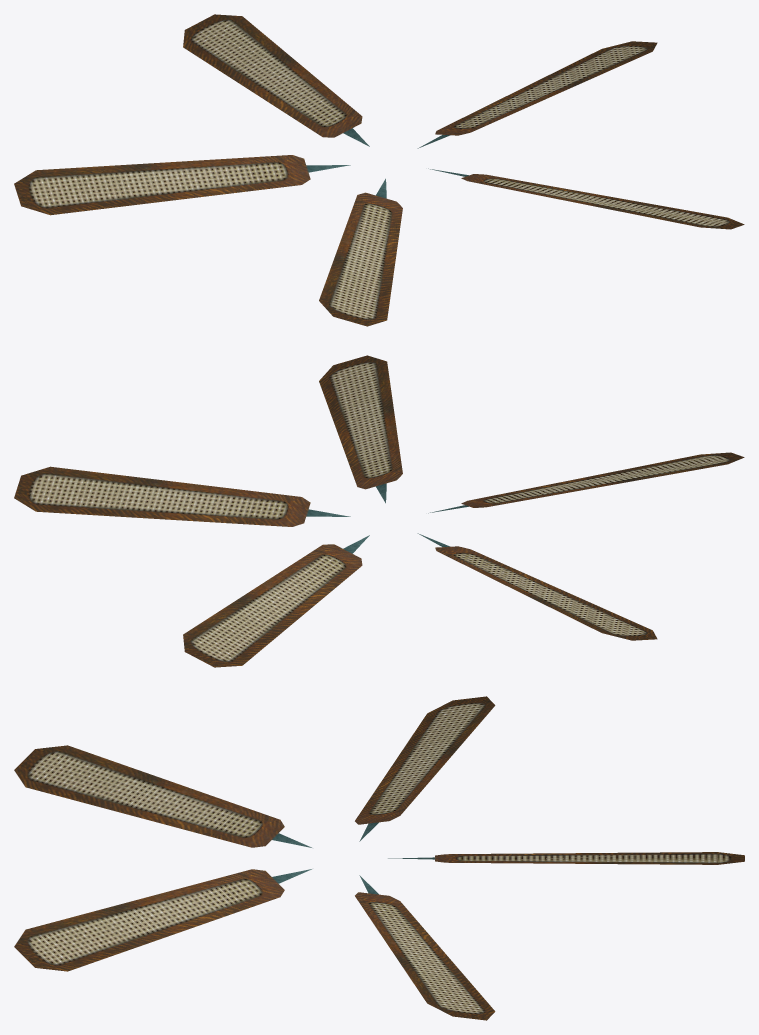
Rendered from ceilingFan.fbx.
3 views of the same model, one above another, from view 1: azimuth 30°, elevation 25°; view 2: azimuth 150°, elevation 25°; view 3: azimuth 270°, elevation 25° (orthographic). The views are drawn at different scales.
Visible parts, largest first — view 1: polySurface76; view 2: polySurface76; view 3: polySurface76.
Boxes of the visible parts, <box> form: polySurface76: <box>14,14,744,326</box>; polySurface76: <box>14,355,744,667</box>; polySurface76: <box>14,696,744,1020</box>.
Size of the model in its own units: 3.23 by 0.0809 by 3.07.
